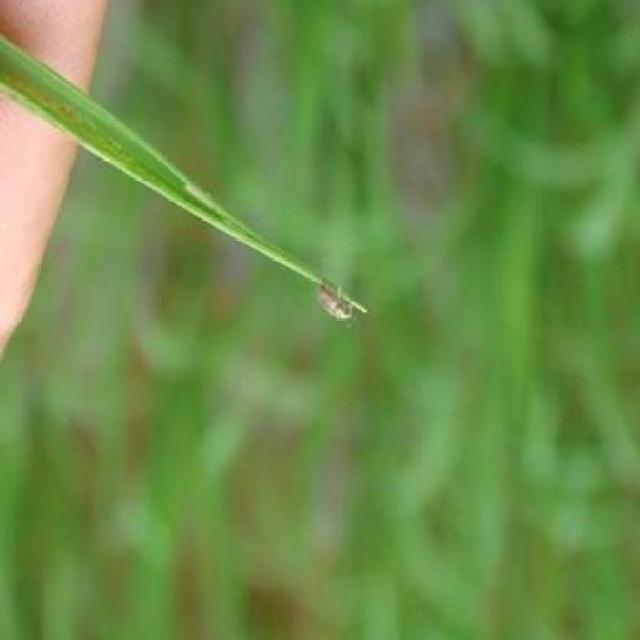rice-bug: (316, 276, 358, 326)
